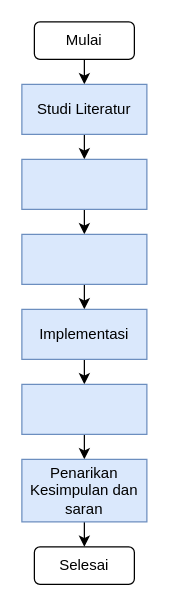
This 169x606 diagram has some shape labels left out. The shapes that lost their labels are listed below. From the top down, each one's centre as x and y in pixels, then its label:
At point (84, 183): "Rekayasa Kebutuhan".
At point (84, 258): "Perancangan".
At point (84, 408): "Pengujian".
